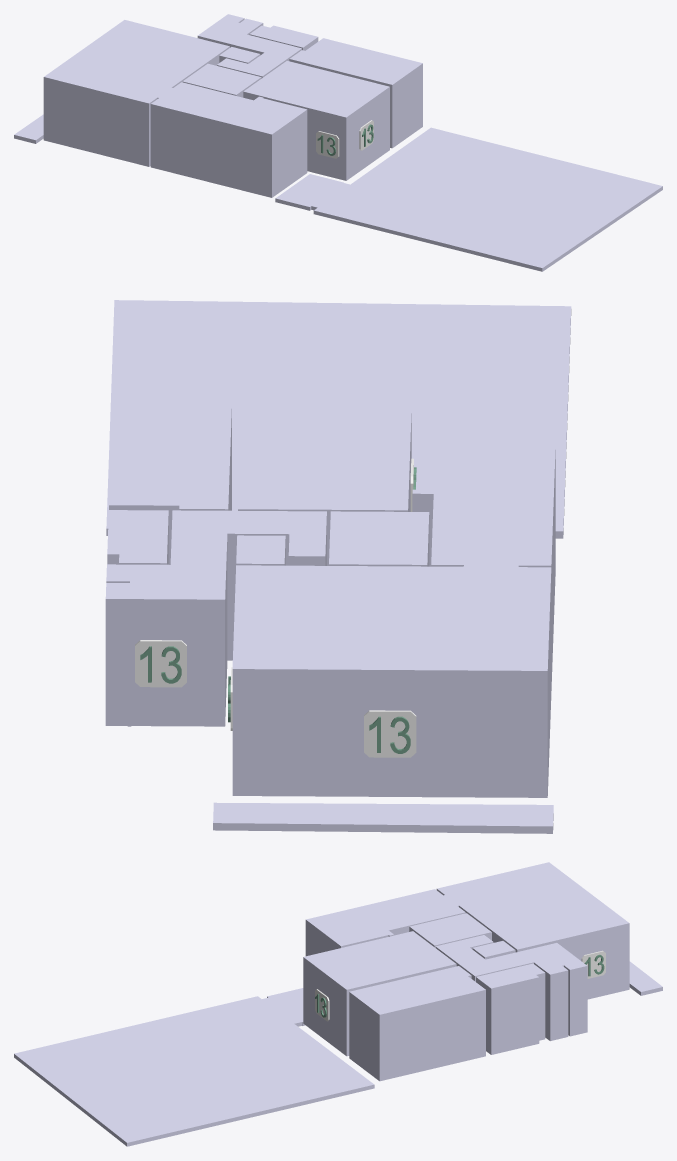
3 views of the same model, one above another, from view 1: azimuth 30°, elevation 25°; view 2: azimuth 150°, elevation 25°; view 3: azimuth 270°, elevation 25° (orthographic). The views are drawn at different scales.
Parts seen in each view (by area): view 1: g_8, g_1, g_0, g_6, g_7, g_4, g_2, g_5, g_9, g_15, g_3; view 2: g_1, g_8, g_4, g_6, g_0, g_7, g_9, g_2, g_5, g_18, g_12, g_3; view 3: g_8, g_7, g_1, g_6, g_4, g_0, g_5, g_2, g_9, g_3.
Part boxes in pixels (<box>): g_8: <box>275,127,662,271</box>; g_1: <box>43,20,229,166</box>; g_0: <box>150,82,307,197</box>; g_6: <box>243,61,389,180</box>; g_7: <box>289,38,422,148</box>; g_4: <box>197,14,301,78</box>; g_2: <box>182,63,261,97</box>; g_5: <box>249,25,318,50</box>; g_9: <box>14,114,43,143</box>; g_15: <box>316,131,339,158</box>; g_3: <box>219,47,260,63</box>; g_1: <box>232,565,551,797</box>; g_8: <box>106,300,571,538</box>; g_4: <box>105,510,326,726</box>; g_6: <box>238,408,411,565</box>; g_0: <box>412,445,555,690</box>; g_7: <box>109,407,231,564</box>; g_9: <box>213,802,553,833</box>; g_2: <box>329,511,429,566</box>; g_5: <box>107,510,168,564</box>; g_18: <box>364,710,416,757</box>; g_12: <box>135,640,186,687</box>; g_3: <box>236,535,285,565</box>; g_8: <box>14,988,374,1146</box>; g_7: <box>349,966,485,1081</box>; g_1: <box>436,862,629,999</box>; g_6: <box>303,931,456,1056</box>; g_4: <box>435,935,587,1040</box>; g_0: <box>305,889,465,956</box>; g_5: <box>476,963,545,1054</box>; g_2: <box>409,913,491,947</box>; g_9: <box>629,961,662,995</box>; g_3: <box>472,941,515,959</box>.
Size of the model in its own units: 18.43 by 2.74 by 22.76.
